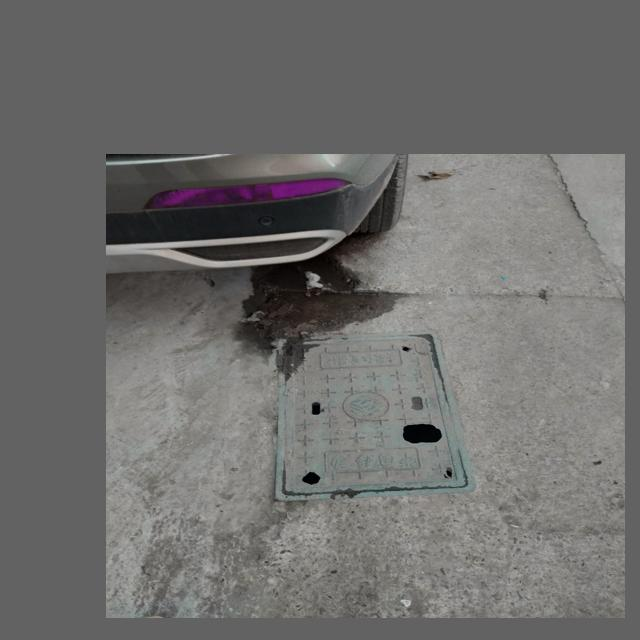broke: (271, 331, 476, 500)
